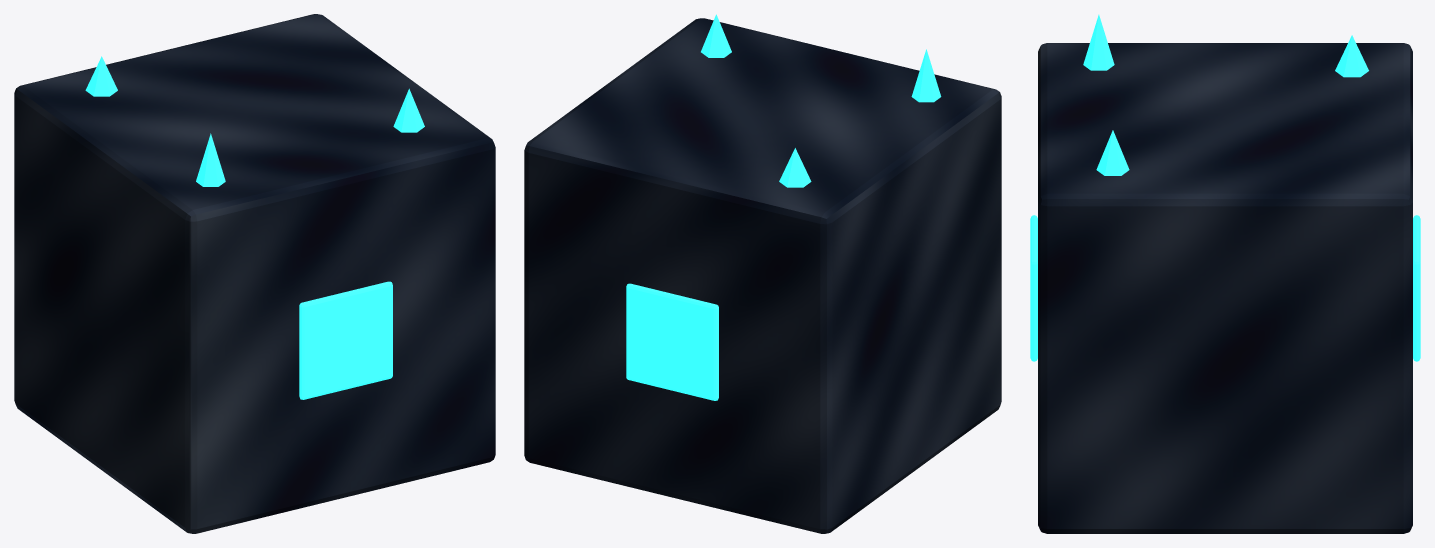
The model's file is 07_PermafrostCoreBlock.glb.
The picture shows the model from 3 angles, left to right: view 1: azimuth 30°, elevation 25°; view 2: azimuth 150°, elevation 25°; view 3: azimuth 270°, elevation 25°; orthographic projection. The views are drawn at different scales.
Parts seen in each view (by area): view 1: Part.006, CoreWindow, IceCrystal.006, IceCrystal.007, IceCrystal.008; view 2: Part.006, CoreWindow.001, IceCrystal.006, IceCrystal.007, IceCrystal.008; view 3: Part.006, CoreWindow, CoreWindow.001, IceCrystal.006, IceCrystal.007, IceCrystal.008.
Part boxes in pixels (x1,y1,x2,y2): Part.006: [14, 14, 495, 533]; CoreWindow: [299, 281, 392, 399]; IceCrystal.006: [196, 133, 225, 186]; IceCrystal.007: [393, 88, 424, 132]; IceCrystal.008: [85, 56, 117, 96]; Part.006: [524, 18, 1001, 533]; CoreWindow.001: [626, 283, 718, 400]; IceCrystal.006: [911, 49, 941, 102]; IceCrystal.007: [701, 14, 731, 57]; IceCrystal.008: [779, 148, 811, 187]; Part.006: [1038, 43, 1412, 533]; CoreWindow: [1030, 215, 1037, 361]; CoreWindow.001: [1413, 215, 1420, 361]; IceCrystal.006: [1083, 14, 1114, 70]; IceCrystal.007: [1096, 130, 1129, 175]; IceCrystal.008: [1335, 35, 1368, 77].
Size of the model in its own units: 4 by 4.6 by 4.16.
Materials: 2 (1 with a texture image).
